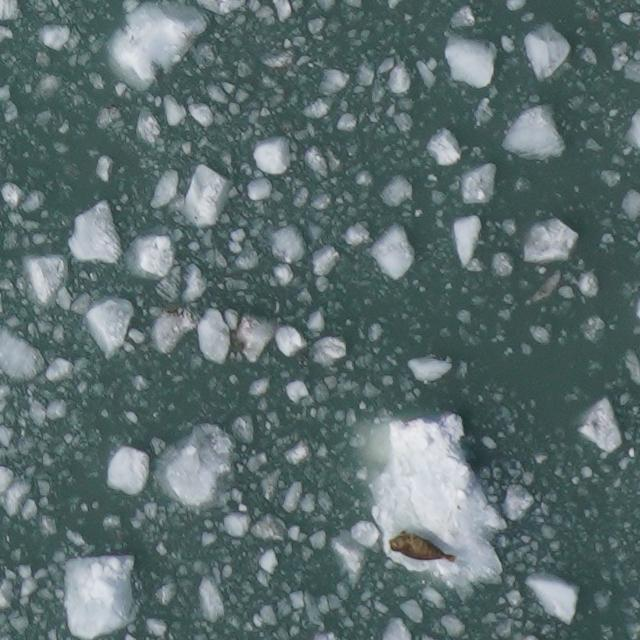seal: (385, 525, 462, 568)
